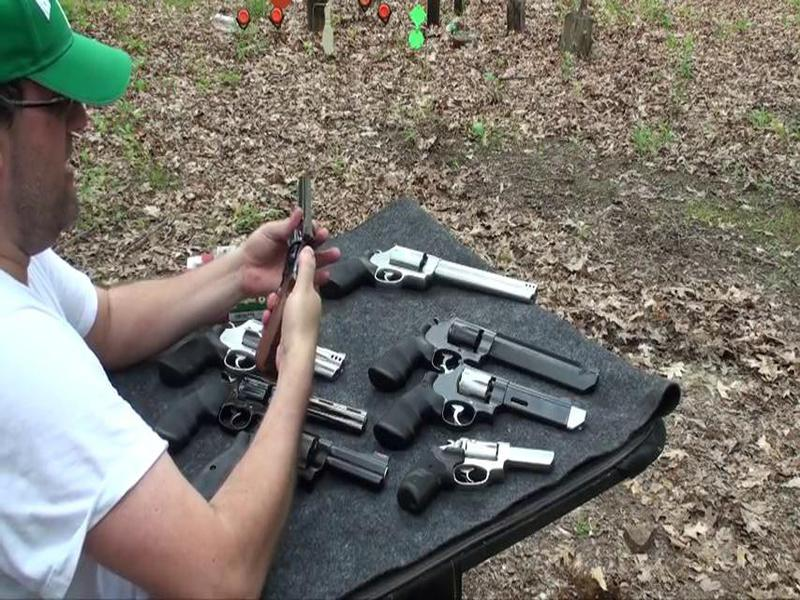Revolver: (255, 166, 336, 395)
